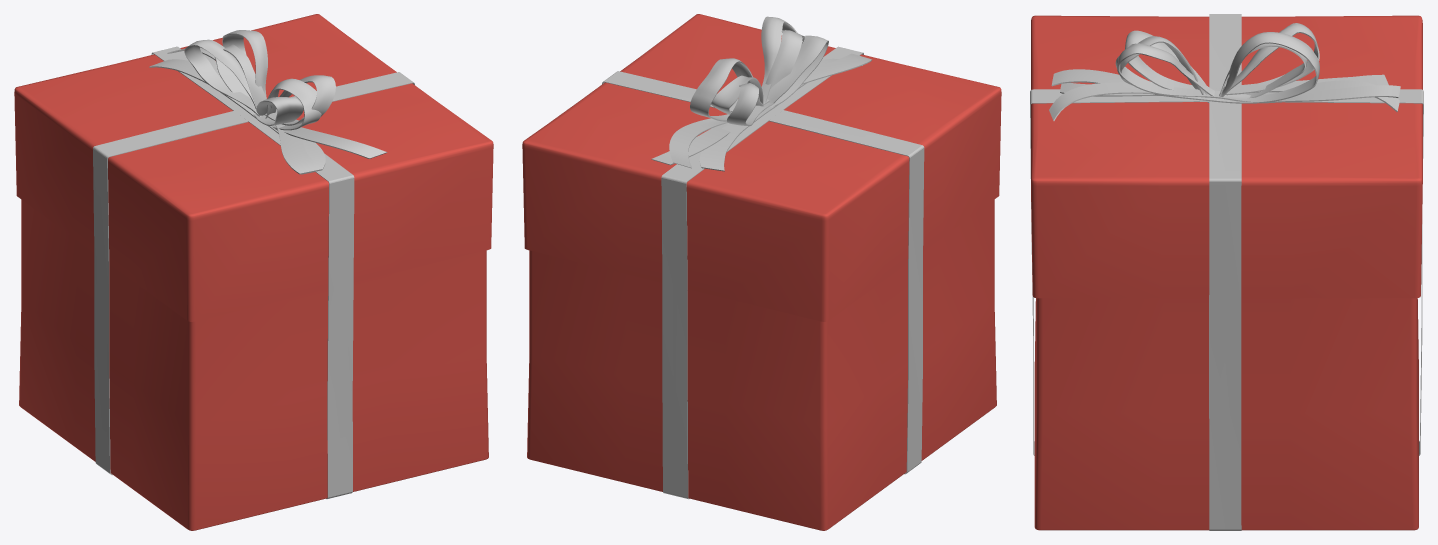
Rendered from GiftBox.glb.
3 views of the same model, side by side, from view 1: azimuth 30°, elevation 25°; view 2: azimuth 150°, elevation 25°; view 3: azimuth 270°, elevation 25° (orthographic). The views are drawn at different scales.
Visible parts, largest first — view 1: GiftBox; view 2: GiftBox; view 3: GiftBox.
Boxes of the visible parts, <box> form: GiftBox: <box>14,14,493,530</box>; GiftBox: <box>522,14,1001,530</box>; GiftBox: <box>1030,14,1423,530</box>.
Bounding box in the file's own units: 3.07 × 3.65 × 3.07.
